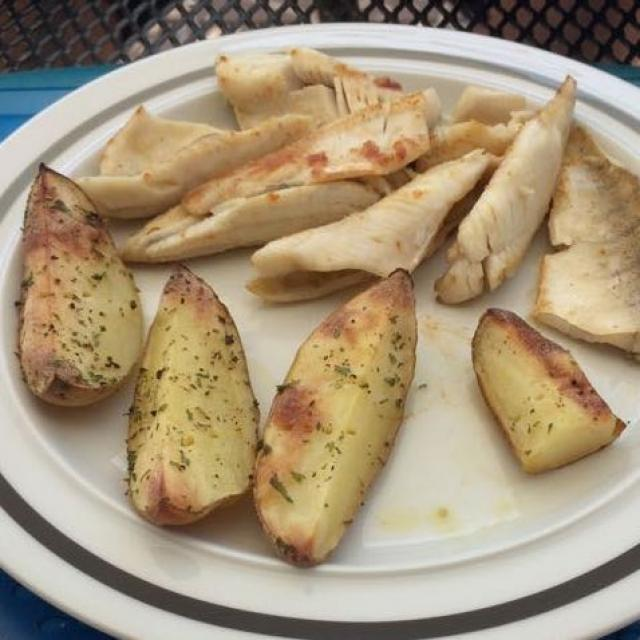fillets: (92, 45, 631, 360)
potatoes: (20, 173, 631, 576)
